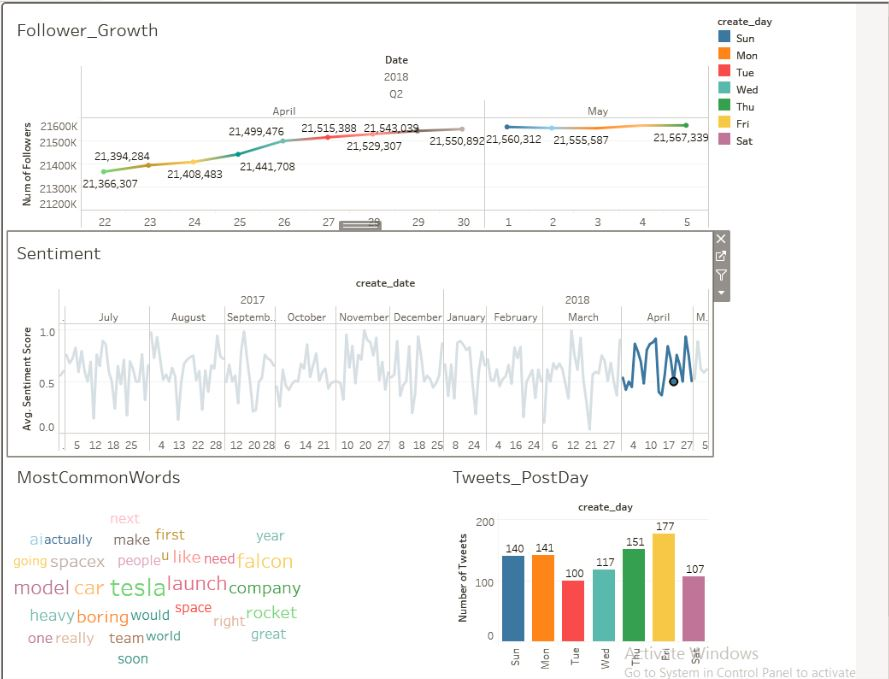

This screenshot's page, from the dashboard's own definition file:
{"tool":"tableau","page":{"name":"Tweet Analysis","canvas":[1000,800],"ordinal":0},"visuals":[{"type":"worksheet","title":"Follower_Growth","mark":"Automatic","rows":["Num"],"cols":["Date","Date","Date","Date"],"box":[8,8,824,261.3]},{"type":"legend","title":"Tweets_PostDay","param":"[federated.0d207ui06z4u2j1f2kyp90js46aq].[none:create_day:nk]","box":[832,8,160,166]},{"type":"worksheet","title":"Sentiment","mark":"Automatic","rows":["score"],"cols":["create_date","create_date","create_date"],"box":[8,269.3,824,261.3]},{"type":"worksheet","title":"MostCommonWords","mark":"Text","box":[8,530.7,510,261.3]},{"type":"worksheet","title":"Tweets_PostDay","mark":"Bar","rows":["Number of Records"],"cols":["create_day"],"box":[518,530.7,314,261.3]}]}

Visuals, with their boxes in screenshot pixels (x1, y1, x2, y2):
"Follower_Growth" worksheet: 0 0 714 227
"Tweets_PostDay" legend: 714 0 853 144
"Sentiment" worksheet: 0 227 714 453
"MostCommonWords" worksheet (Text marks): 0 453 442 678
"Tweets_PostDay" worksheet (Bar marks): 442 453 714 678
